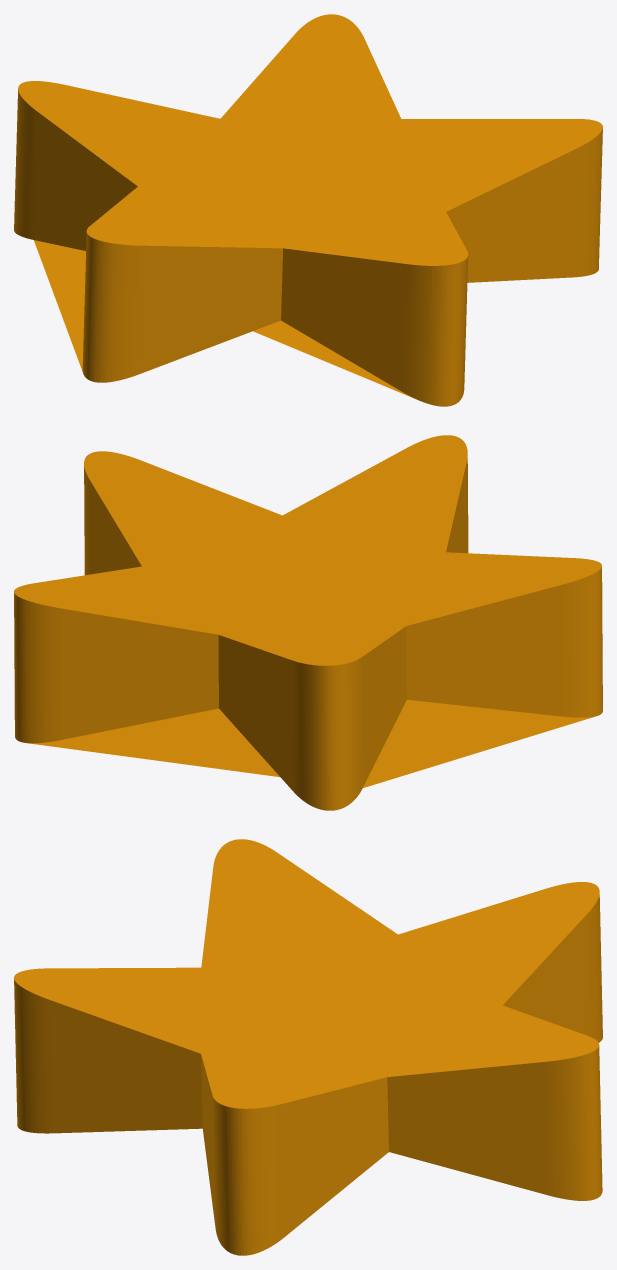
The model's file is _tar.fbx.
3 renders of one model, top to bottom at view 1: azimuth 30°, elevation 25°; view 2: azimuth 150°, elevation 25°; view 3: azimuth 270°, elevation 25°, orthographic. The views are drawn at different scales.
Visible parts, largest first — view 1: Cylinder; view 2: Cylinder; view 3: Cylinder.
Boxes of the visible parts, x1,y1,x2,y2 form: Cylinder: (14, 14, 602, 406); Cylinder: (14, 435, 602, 810); Cylinder: (14, 839, 602, 1255).
Bounding box in the file's own units: 165 × 48.45 × 158.
